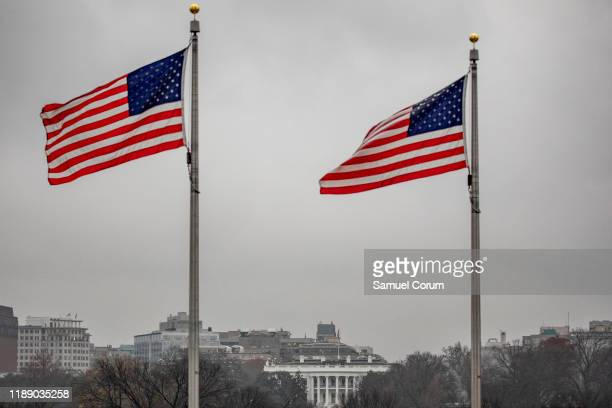America flag: (40, 46, 194, 189), (316, 74, 471, 196)
